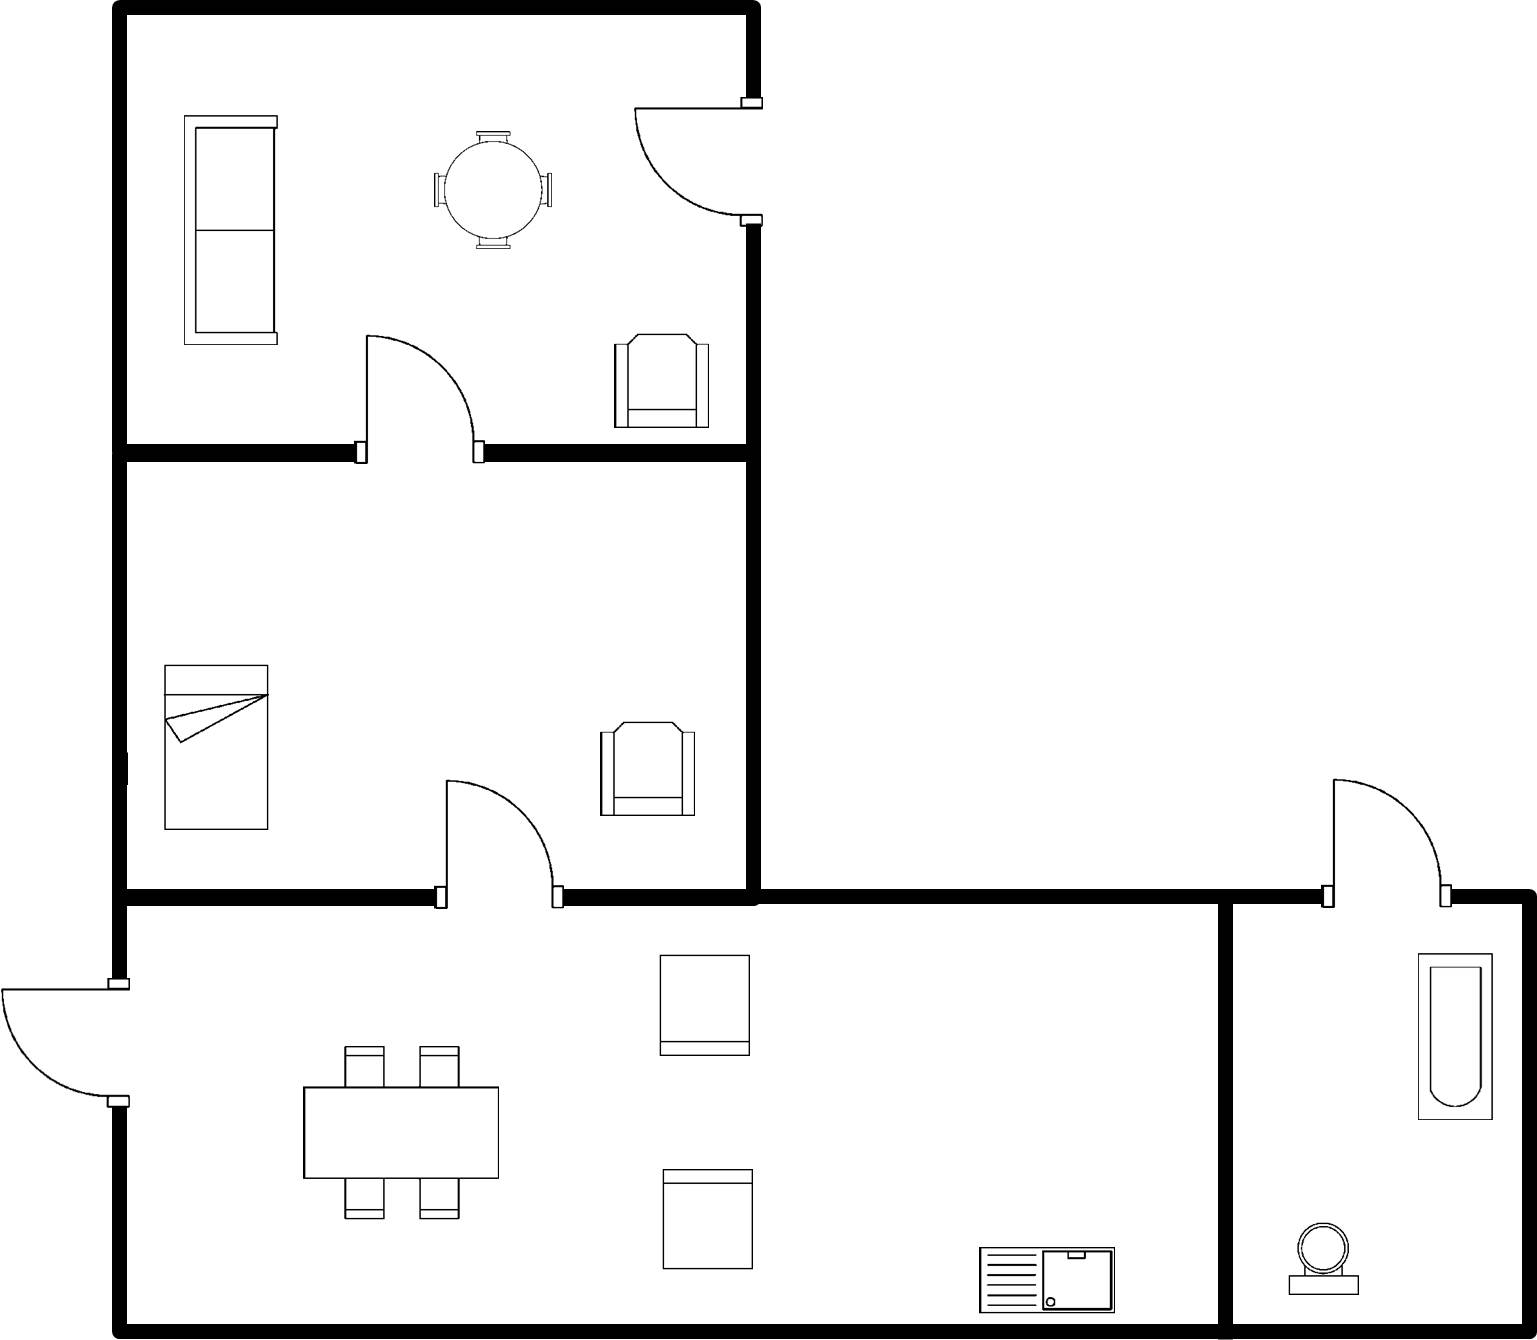armchair: (585, 711, 705, 829), (603, 324, 716, 435)
bed: (153, 652, 277, 842)
dining_table: (294, 1033, 511, 1228)
large_sink: (1279, 1212, 1366, 1303)
large_sofa: (172, 103, 285, 354)
round_table: (424, 122, 562, 259)
sink: (967, 1235, 1125, 1321)
small_sofa: (646, 946, 759, 1064), (655, 1160, 767, 1278)
tub: (1405, 943, 1506, 1131)
